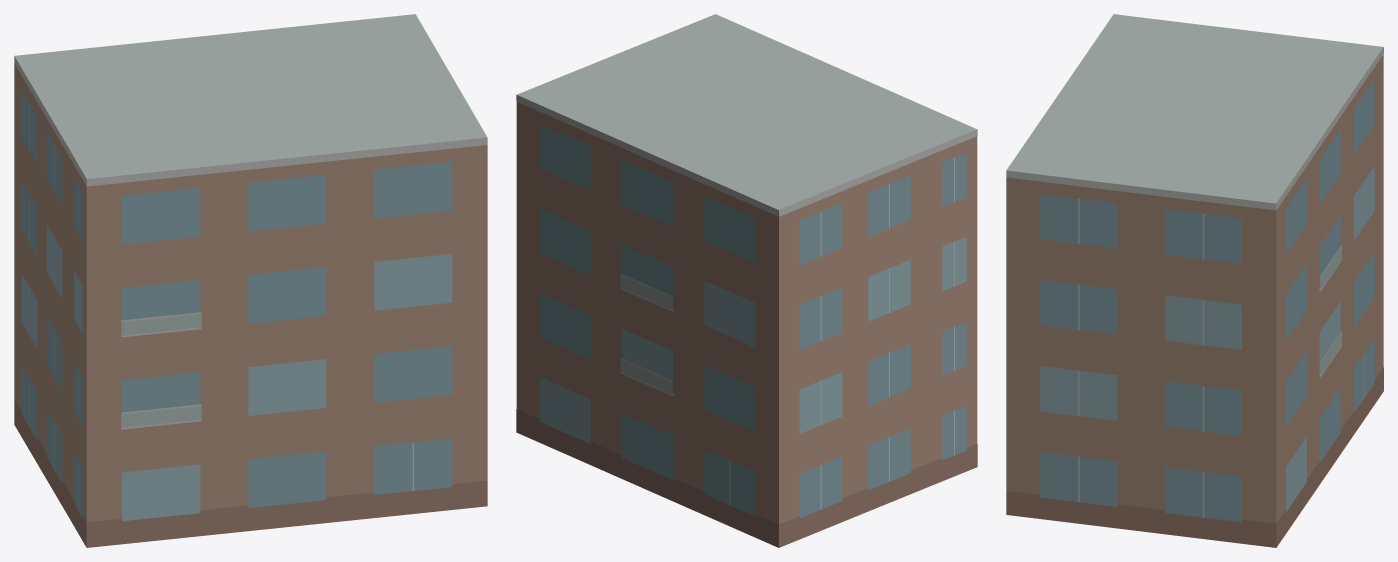
File: residential-a931331d-aa59-4aae-bc30-e91c081bbe34.glb
3 renders of one model, left to right at view 1: azimuth 30°, elevation 25°; view 2: azimuth 150°, elevation 25°; view 3: azimuth 270°, elevation 25°, orthographic. The views are drawn at different scales.
Visible parts, largest first — view 1: residential-a931331d-aa59-4aae-bc30-e91c081bbe34.tmp; view 2: residential-a931331d-aa59-4aae-bc30-e91c081bbe34.tmp; view 3: residential-a931331d-aa59-4aae-bc30-e91c081bbe34.tmp.
Part boxes in pixels (x1,y1,x2,y2): residential-a931331d-aa59-4aae-bc30-e91c081bbe34.tmp: (14, 14, 487, 547); residential-a931331d-aa59-4aae-bc30-e91c081bbe34.tmp: (516, 14, 977, 547); residential-a931331d-aa59-4aae-bc30-e91c081bbe34.tmp: (1006, 14, 1383, 547).
Size of the model in its own units: 14.42 by 12.2 by 12.13.
